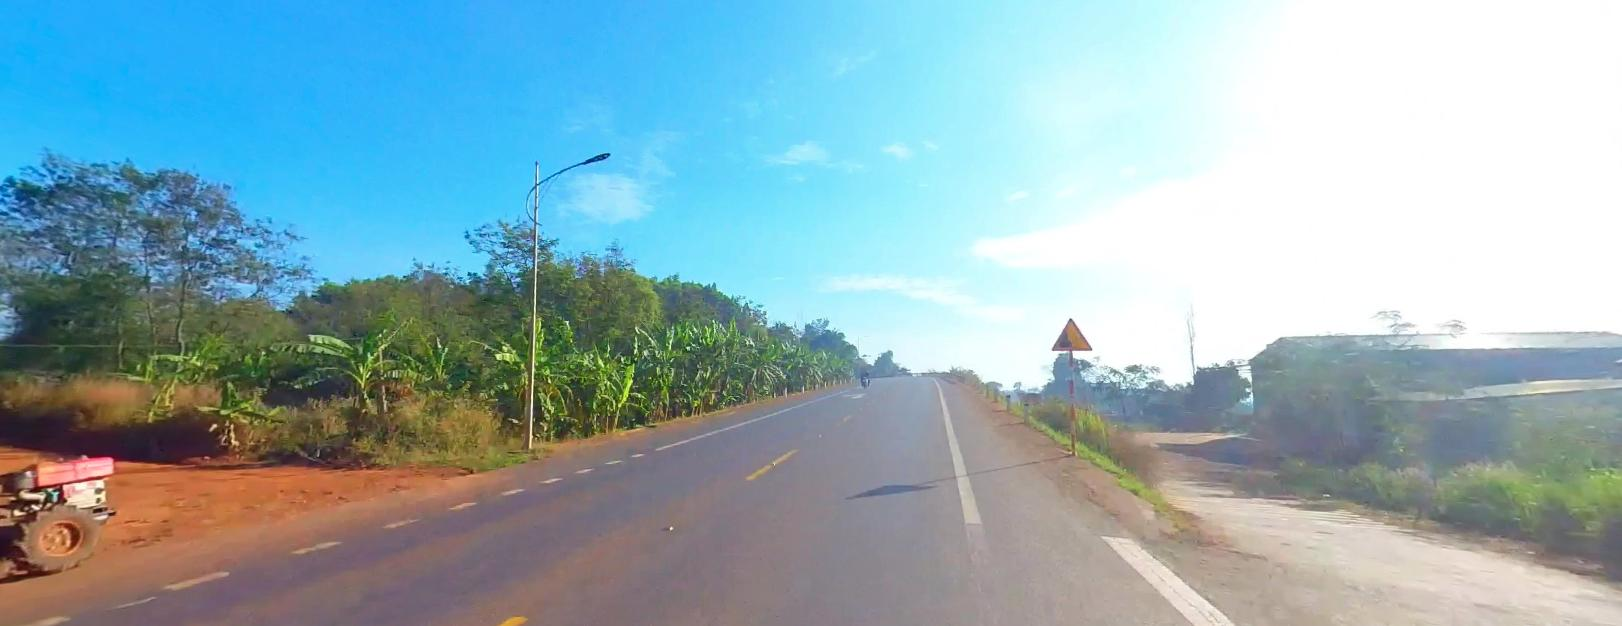Nguy hiem: (1051, 317, 1092, 349)
